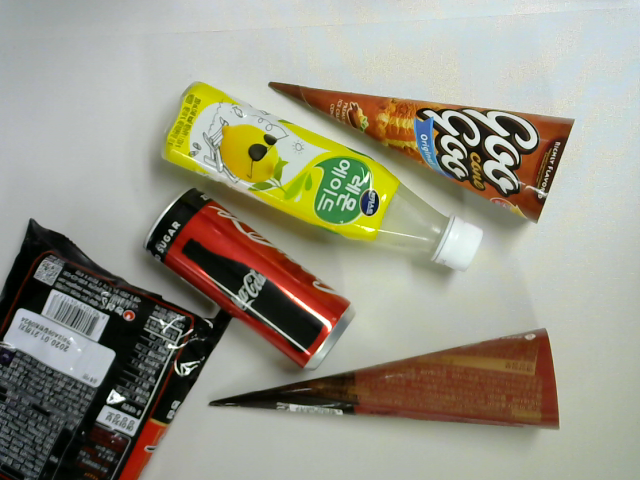Coca_Cola_Zero_Can_250ml: (149, 186, 357, 369)
GooGoo_Cone_CVS: (268, 79, 575, 223)
Sinramen_Black: (1, 216, 248, 480)
Sunkist_Lemonaid_Pet: (153, 79, 485, 277)
World_Cone_Choco: (205, 327, 567, 436)
